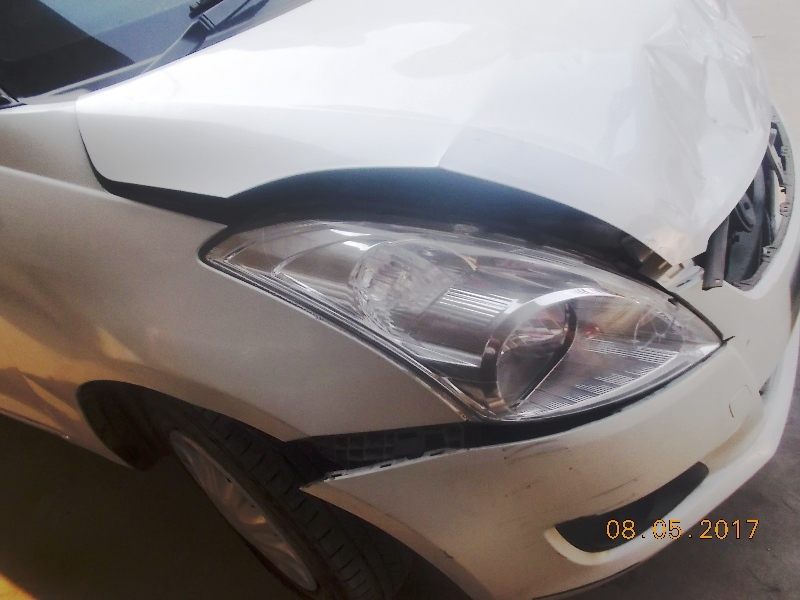Dislocation: (273, 401, 525, 516), (93, 147, 228, 262)
